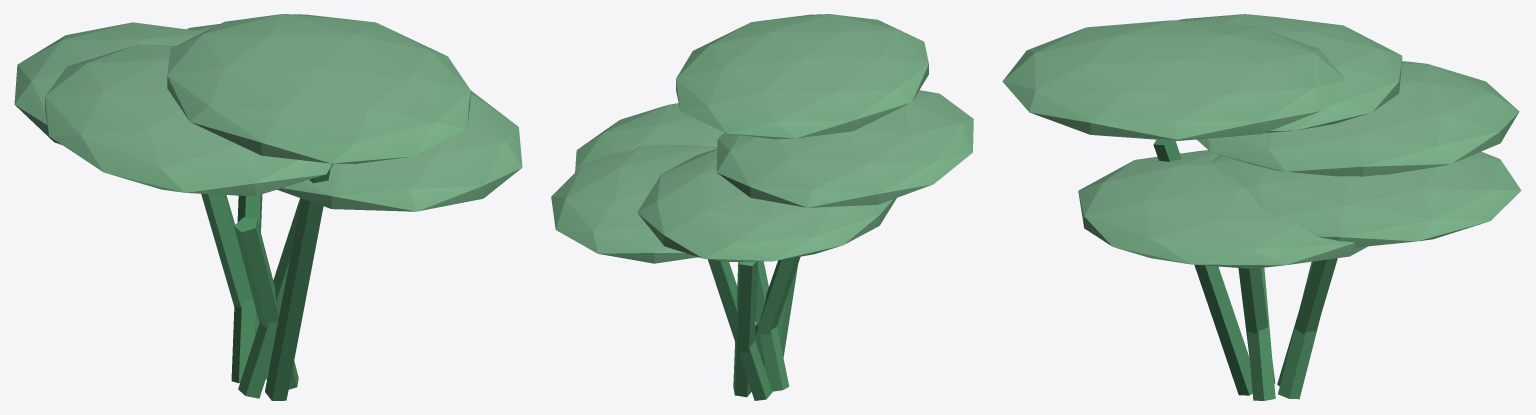
File: caladium-bicolor.glb
The picture shows the model from 3 angles, left to right: view 1: azimuth 30°, elevation 25°; view 2: azimuth 150°, elevation 25°; view 3: azimuth 270°, elevation 25°; orthographic projection. The views are drawn at different scales.
Parts seen in each view (by area): view 1: blade1, blade2, blade0, blade3, petiole1, petiole0, petiole4, petiole2, petiole3; view 2: blade1, blade2, blade3, blade4, blade0, petiole4, petiole3, petiole2, petiole0, petiole1; view 3: blade1, blade0, blade3, blade4, blade2, petiole1, petiole3, petiole0, petiole4, petiole2.
Boxes of the visible parts, bbox=[...] form: blade1: bbox=[167, 14, 470, 164]; blade2: bbox=[45, 44, 333, 196]; blade0: bbox=[277, 90, 522, 211]; blade3: bbox=[14, 22, 204, 144]; petiole1: bbox=[265, 169, 330, 400]; petiole0: bbox=[234, 217, 298, 389]; petiole4: bbox=[201, 193, 268, 379]; petiole2: bbox=[238, 198, 301, 398]; petiole3: bbox=[231, 194, 262, 383]; blade1: bbox=[676, 14, 928, 139]; blade2: bbox=[716, 90, 973, 207]; blade3: bbox=[637, 149, 896, 261]; blade4: bbox=[551, 144, 717, 263]; blade0: bbox=[575, 103, 724, 172]; petiole4: bbox=[733, 261, 758, 397]; petiole3: bbox=[708, 259, 772, 400]; petiole2: bbox=[756, 261, 789, 391]; petiole0: bbox=[755, 256, 800, 364]; petiole1: bbox=[763, 265, 797, 375]; blade1: bbox=[1002, 20, 1345, 140]; blade0: bbox=[1078, 150, 1367, 268]; blade3: bbox=[1197, 61, 1519, 176]; blade4: bbox=[1210, 151, 1521, 247]; blade2: bbox=[1176, 14, 1402, 132]; petiole1: bbox=[1153, 139, 1252, 395]; petiole3: bbox=[1277, 258, 1337, 386]; petiole0: bbox=[1247, 267, 1275, 400]; petiole4: bbox=[1278, 261, 1319, 399]; petiole2: bbox=[1238, 268, 1275, 383].
Size of the model in its own units: 0.4237 by 0.3419 by 0.4832.
